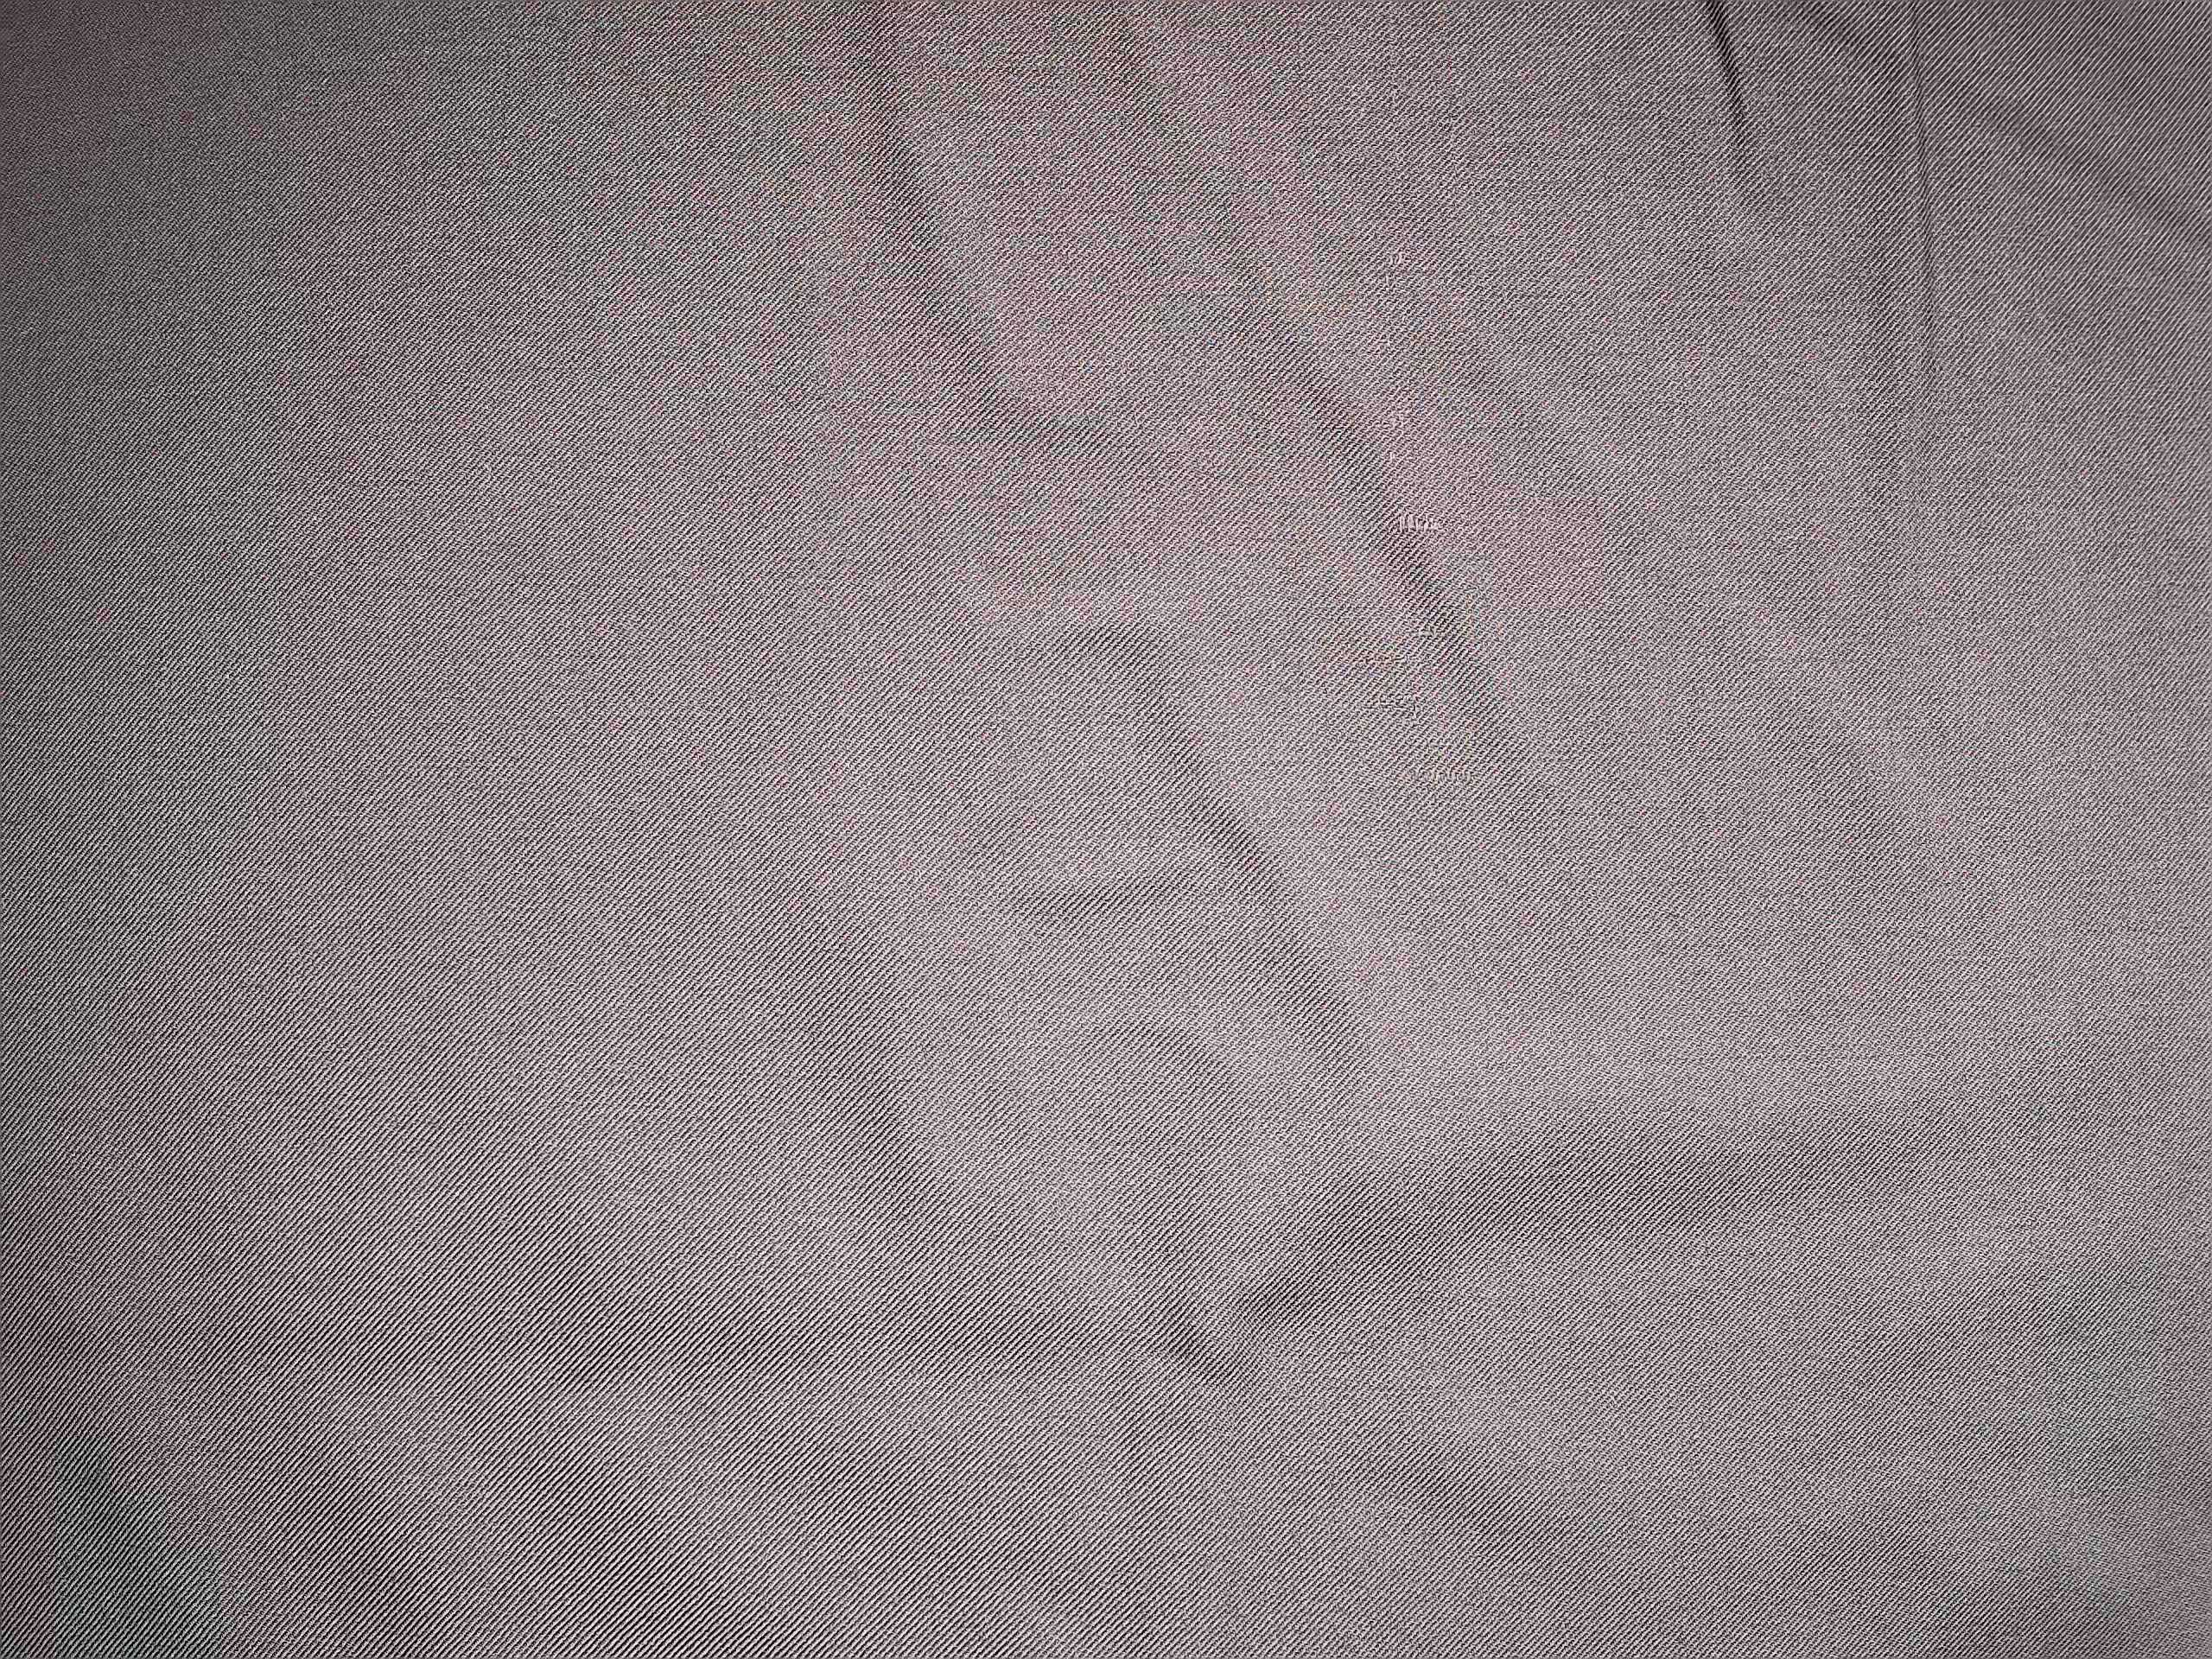jumps: (1359, 474, 1474, 573)
